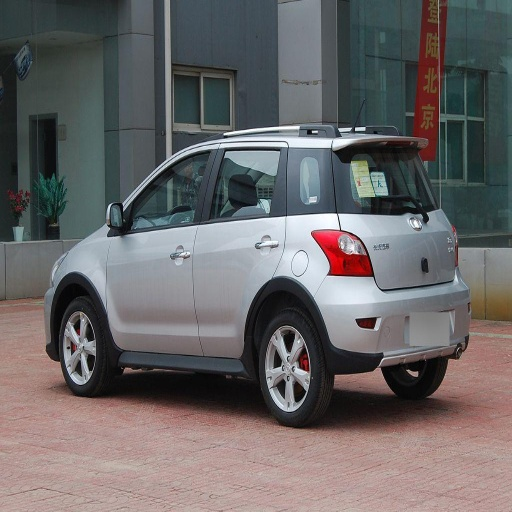back_bumper: (314, 276, 470, 372)
back_glass: (332, 143, 431, 214)
back_left_door: (194, 141, 285, 355)
tailgate: (360, 211, 452, 288)
